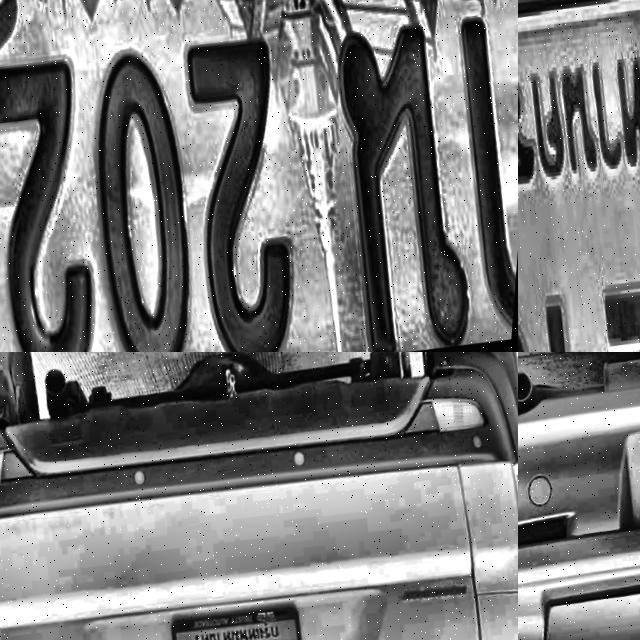license-plate: (0, 0, 518, 352), (518, 0, 640, 352), (166, 591, 316, 640)
